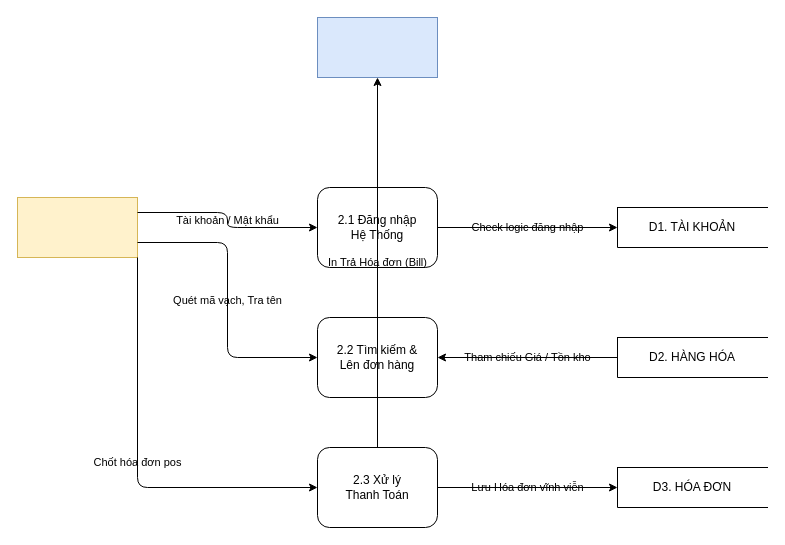
This 785x545 diagram has some shape labels left out. The shapes that lost their labels are listed below. From the top down, each one's centre as x and y in pixels, then its label:
the point at 377,47: KHÁCH HÀNG
the point at 77,227: NHÂN VIÊN
